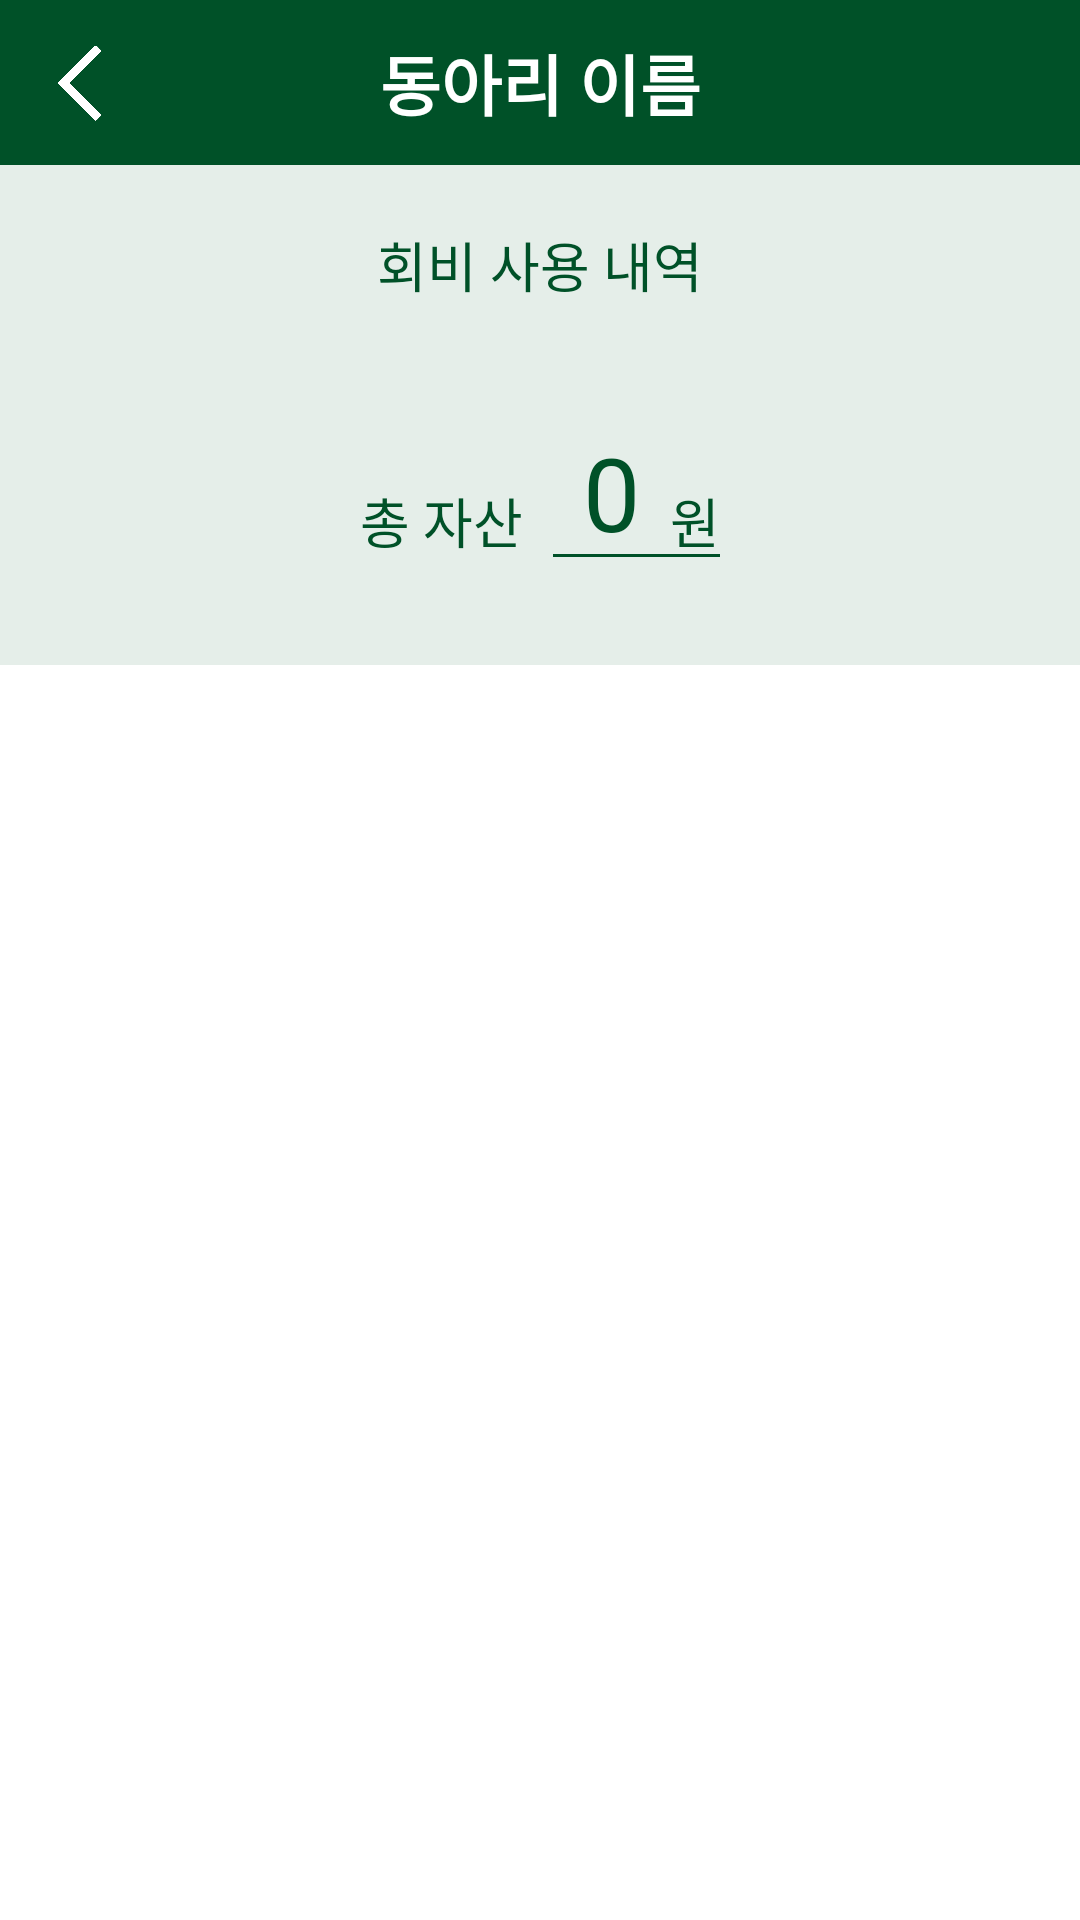

Point at icon controls on the screen. Image size 1080 x 1920, points as point (x, y).
backward: point (79, 83)
